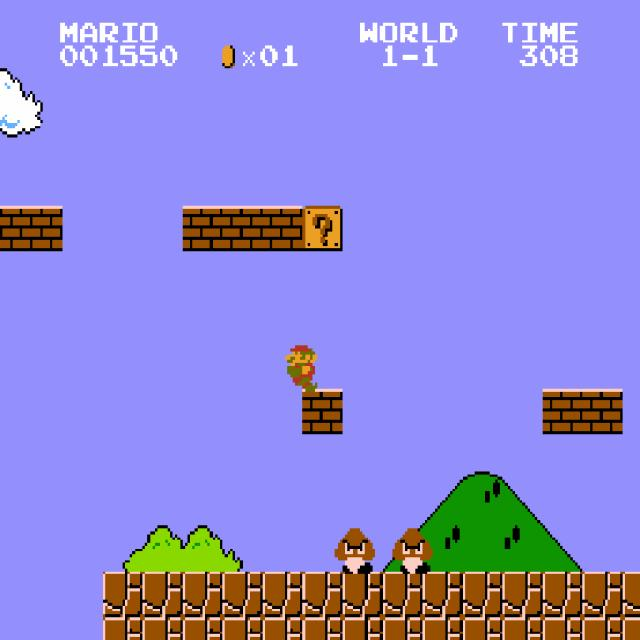brick_block: (22, 206, 63, 251), (182, 206, 223, 251), (222, 206, 263, 251), (262, 206, 303, 251), (302, 389, 343, 434), (542, 389, 583, 434), (582, 389, 623, 434), (0, 206, 22, 251)
goomba: (332, 526, 375, 574), (390, 526, 433, 574)
little_mario: (277, 343, 320, 391)
mystery_block: (302, 206, 343, 251)
undestructible_block: (102, 572, 143, 617), (142, 572, 183, 617), (182, 572, 223, 617), (222, 572, 263, 617), (262, 572, 303, 617), (302, 572, 343, 617), (342, 572, 383, 617), (382, 572, 423, 617), (422, 572, 463, 617), (462, 572, 503, 617), (502, 572, 543, 617), (542, 572, 583, 617), (582, 572, 623, 617), (102, 617, 143, 640), (142, 617, 183, 640), (182, 617, 223, 640), (222, 617, 263, 640), (262, 617, 303, 640), (302, 617, 343, 640), (342, 617, 383, 640), (382, 617, 423, 640), (422, 617, 463, 640), (462, 617, 503, 640), (502, 617, 543, 640), (542, 617, 583, 640), (582, 617, 623, 640), (622, 571, 640, 617), (622, 617, 640, 639)
